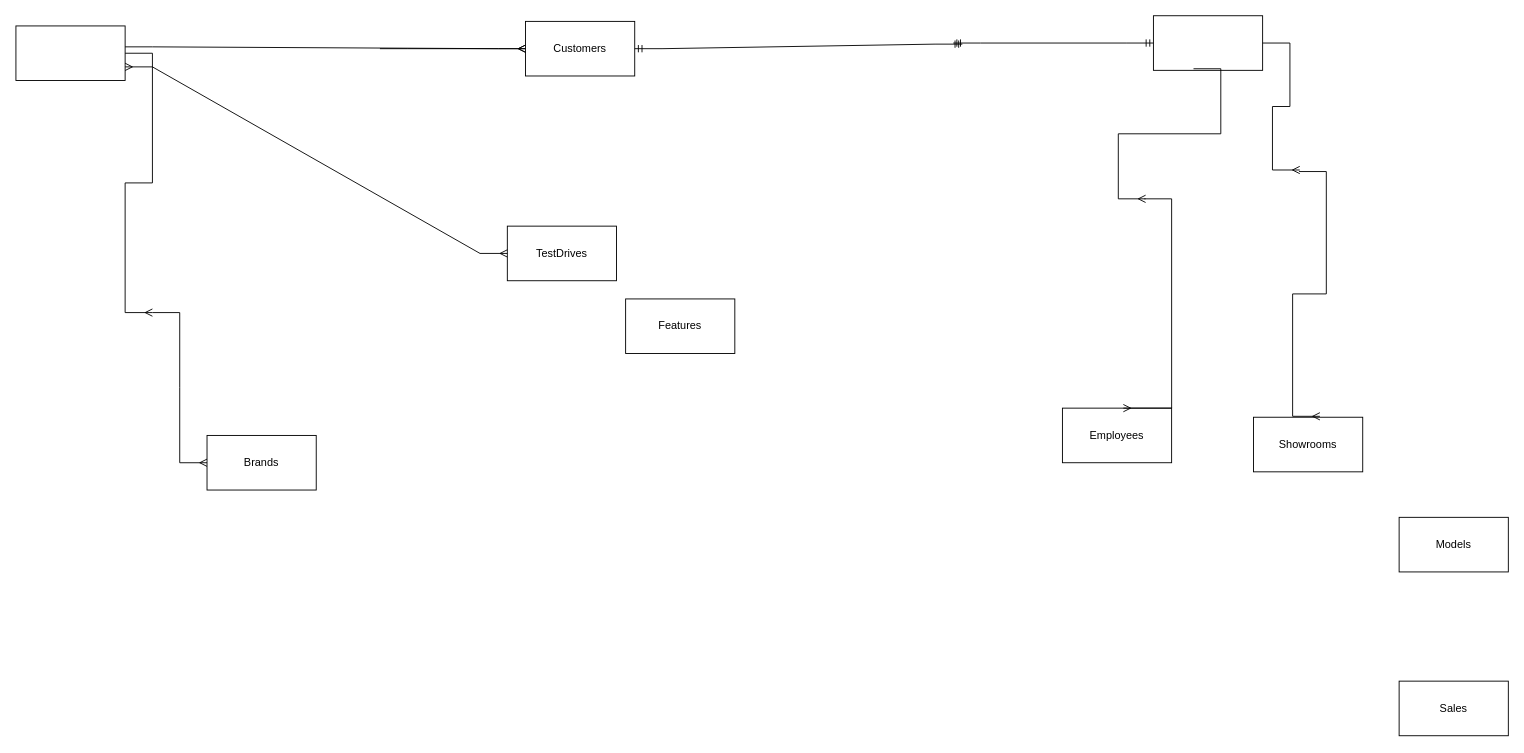
The diagram is 1524 pixels wide and 753 high, and some of its shapes have lost their labels. Here are the shapes that lost their labels. From the top down, the box of each, then its label:
(15, 25, 125, 81): Cars
(1153, 15, 1263, 70): Financing
